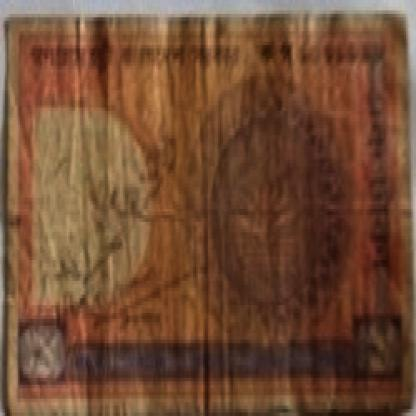One Taka: (23, 326, 68, 388), (361, 312, 398, 381)
